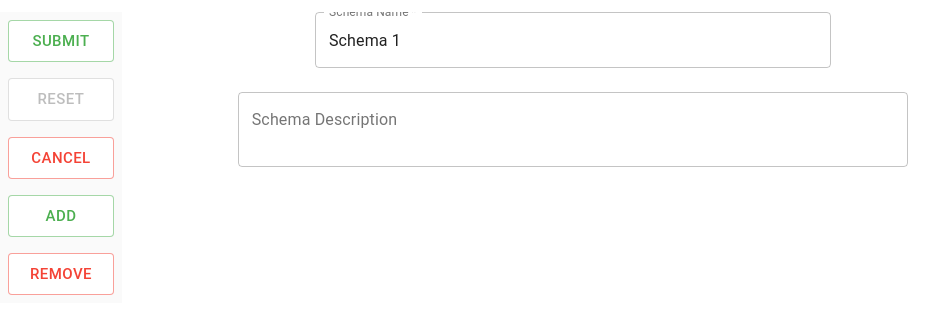
it: SchemasBoard with "activeSchemaId" › SchemasBoard is displayed back when Schema is updated ("mode" = "EDIT")
Type "2" into the field labelled "Schema Name" at (573, 40), box [315,12,831,68]
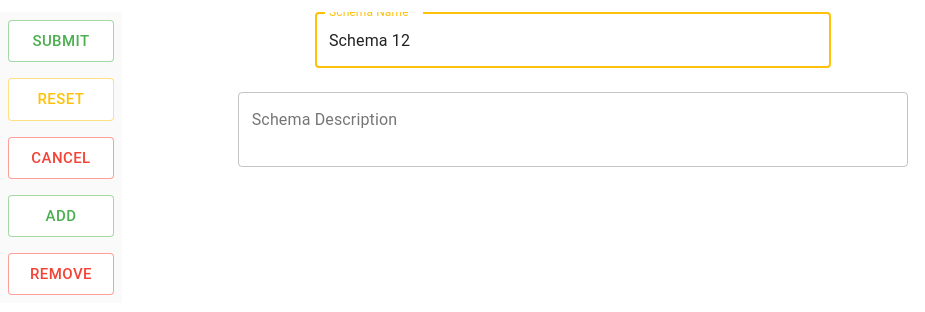
Click the button "Submit" at (61, 41), box [8,20,114,62]
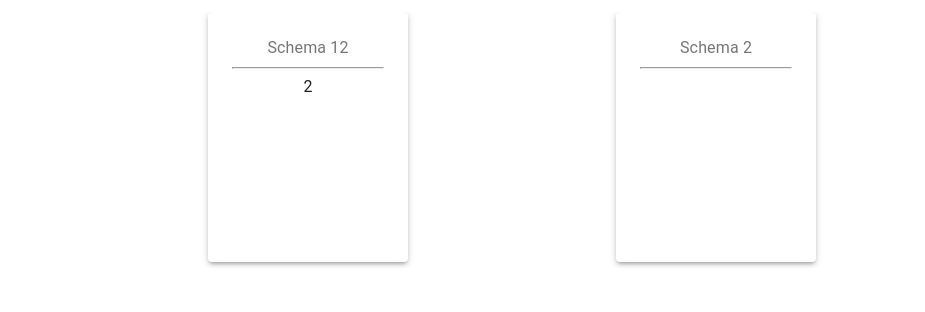
Result: the button "Schema 12 2" is shown at [208,12,408,262]
Result: the button "Schema 2" is shown at [616,12,816,262]
